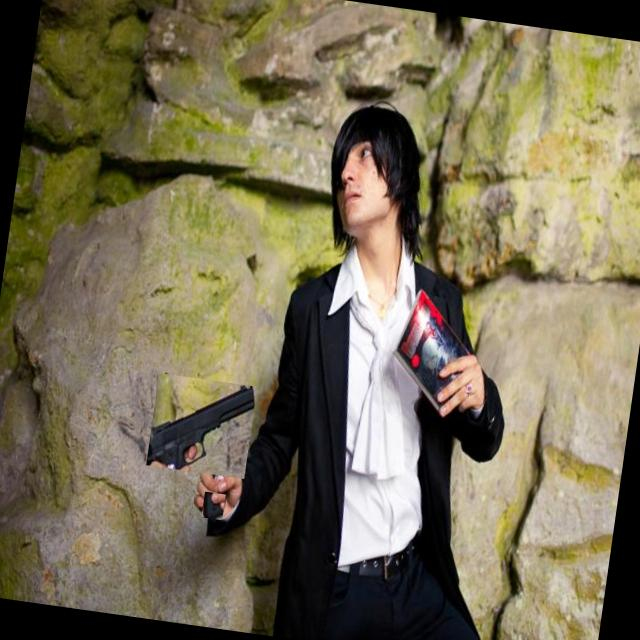Gun: (152, 386, 254, 469), (204, 493, 223, 519)
